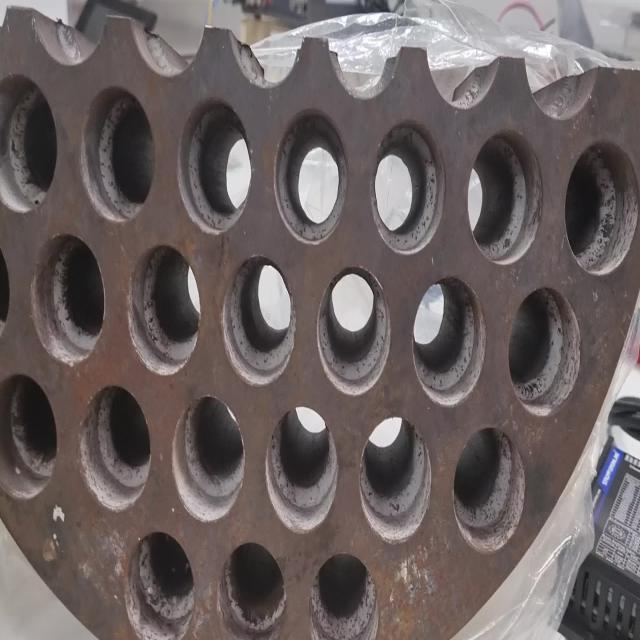Hole: (177, 96, 253, 234), (79, 85, 155, 223), (371, 118, 446, 256), (219, 253, 296, 386), (466, 131, 542, 265), (274, 108, 348, 245), (564, 140, 639, 275), (126, 243, 201, 377), (30, 232, 105, 366), (412, 273, 486, 408), (507, 284, 582, 416), (316, 265, 391, 396), (358, 414, 432, 546), (171, 393, 245, 523), (264, 406, 338, 534), (452, 426, 526, 554), (78, 384, 152, 512), (1, 75, 58, 213), (125, 529, 195, 639), (0, 372, 58, 501), (217, 540, 286, 640), (309, 550, 379, 640)
